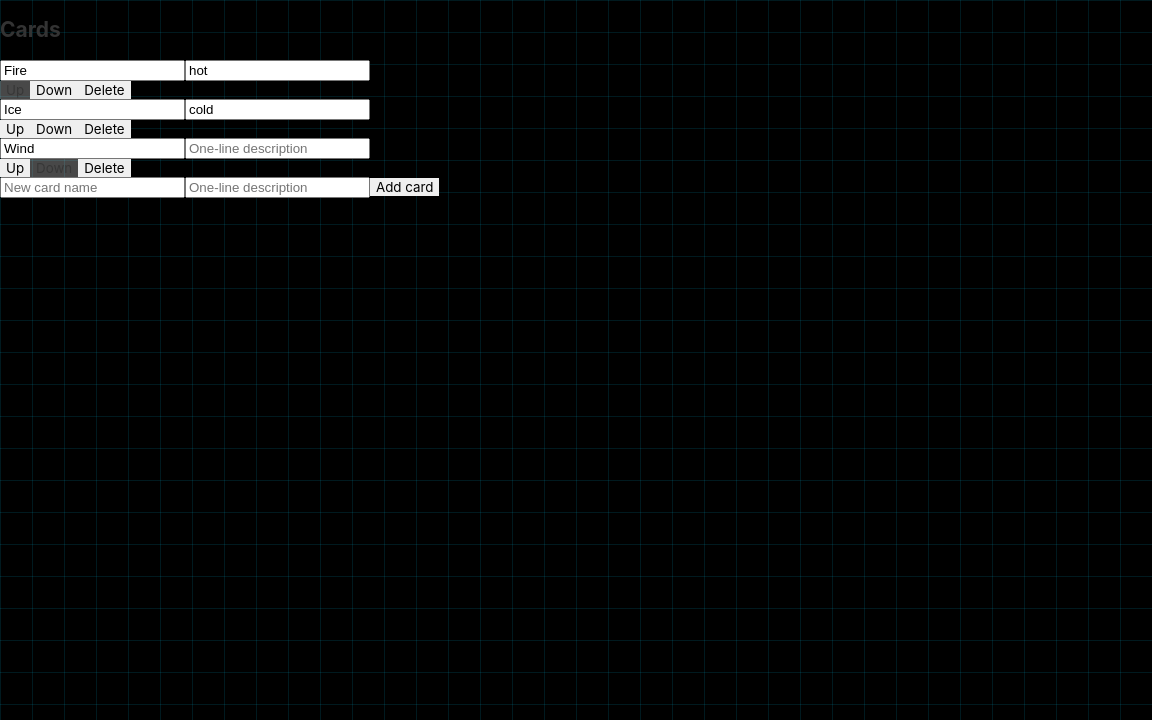
Test: CardList delete › counts only pairs that involve the card
What coordinates should you click on to do the following:
click the 3rd button "Delete"
I would click on:
 (104, 168)
Its box is [78,159,131,177].
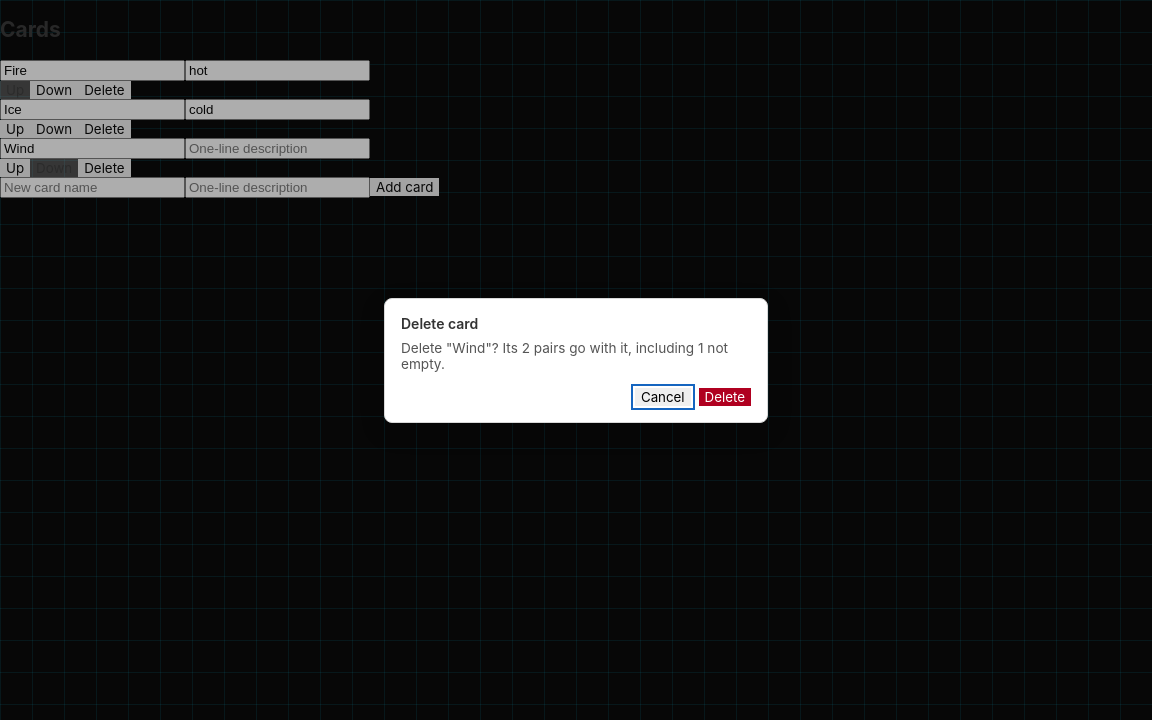
Now the dialog shows "including 1 not empty.", box [401,340,728,372]
